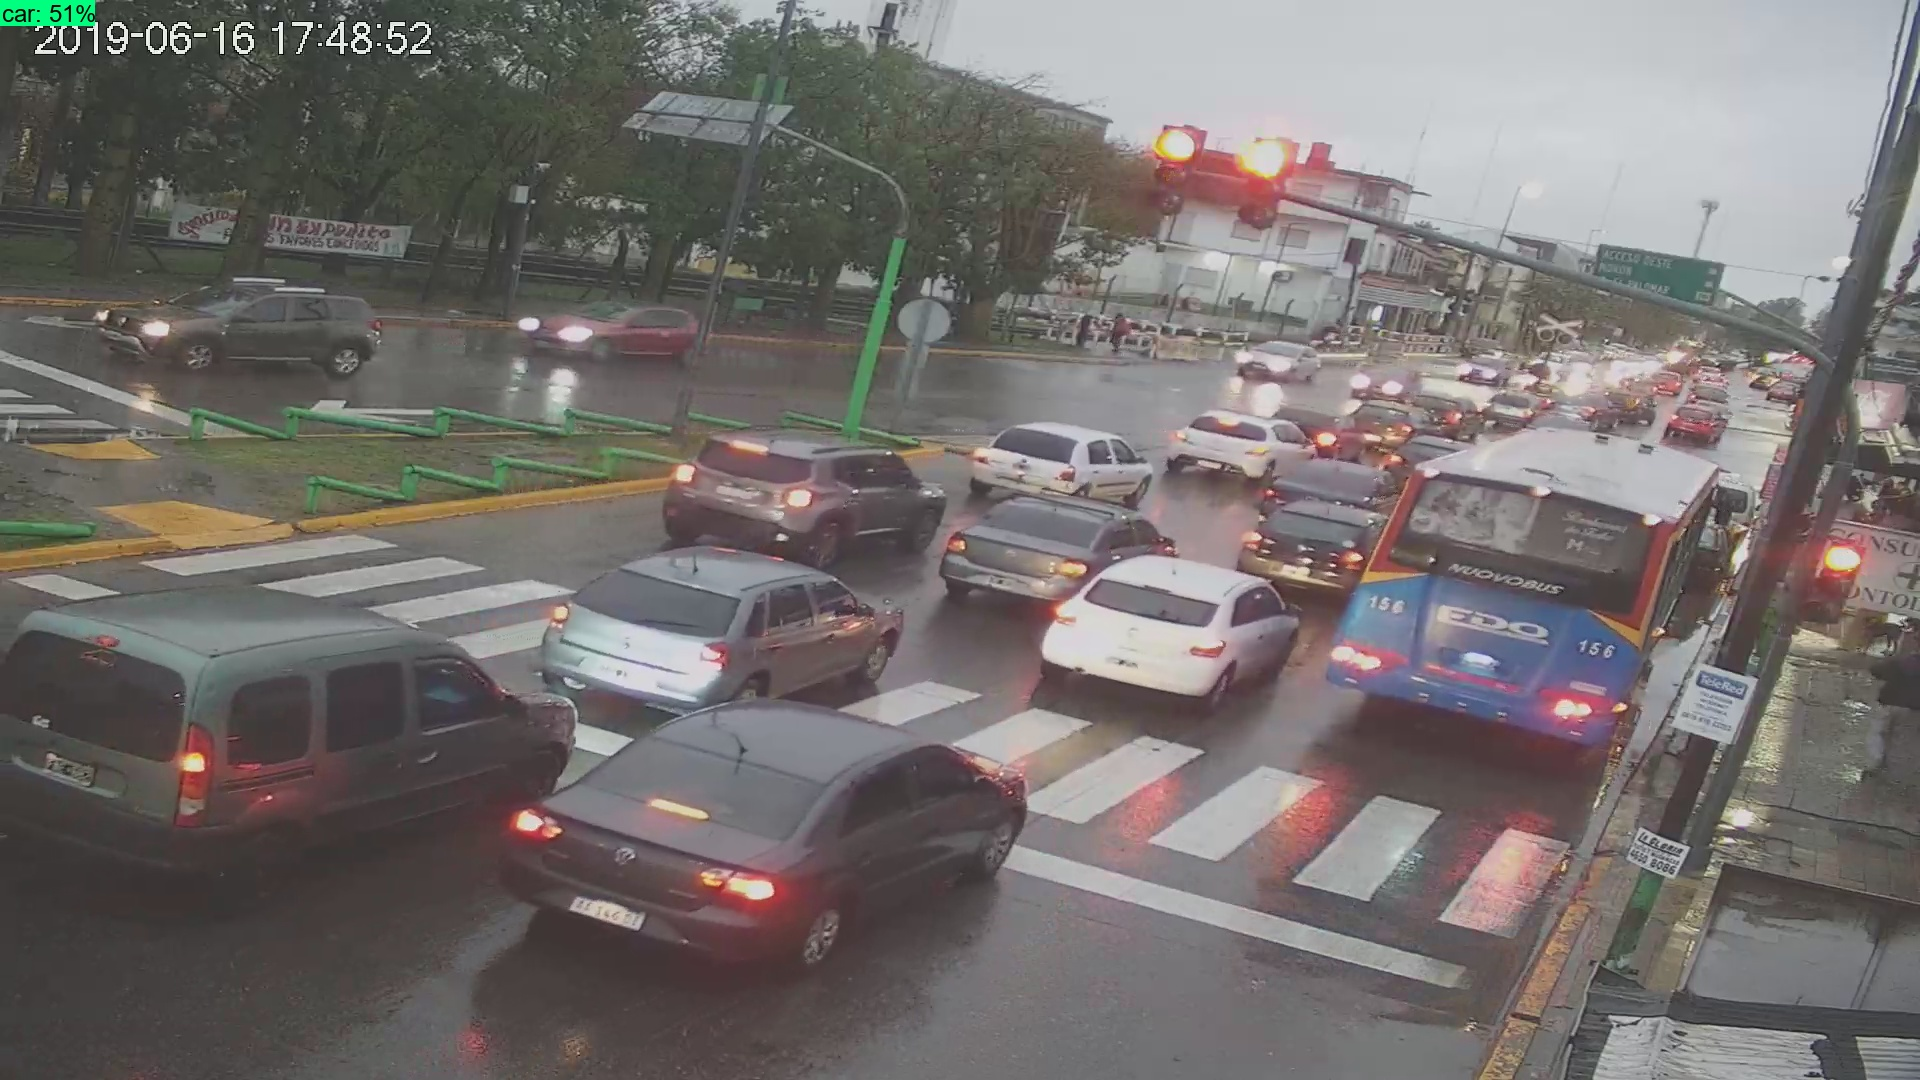bus: (1323, 430, 1709, 760)
car: (4, 566, 582, 880), (504, 676, 1031, 963), (541, 554, 902, 716), (663, 433, 948, 579), (1031, 564, 1300, 711), (90, 268, 384, 396), (942, 500, 1184, 611), (971, 415, 1154, 514), (516, 287, 707, 371), (1244, 502, 1396, 596), (1170, 409, 1317, 480)
